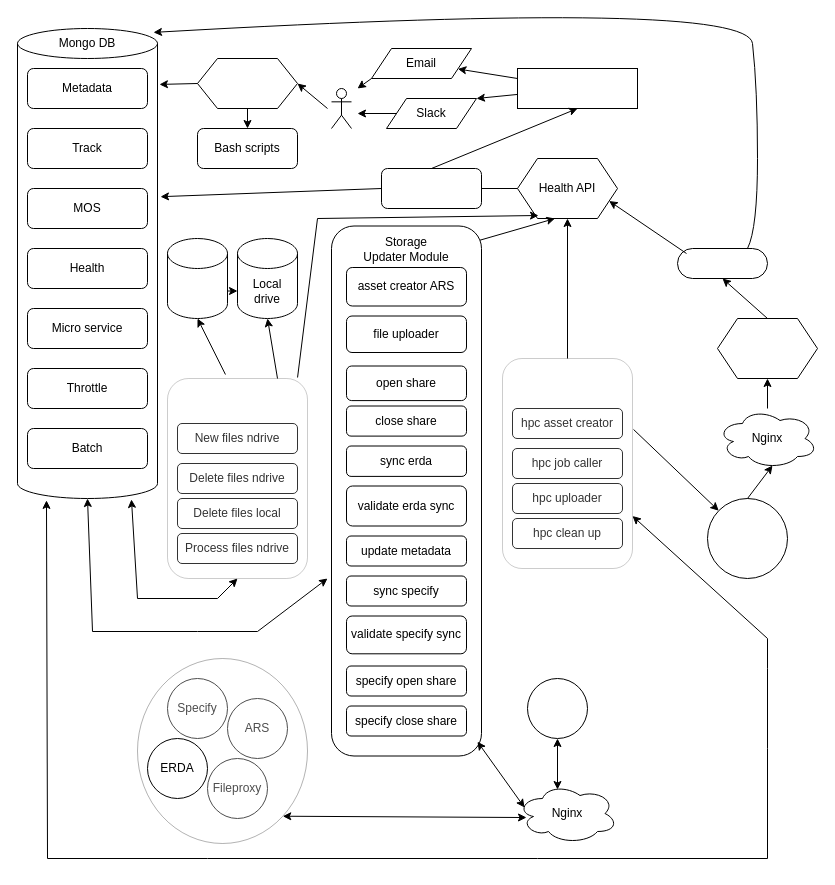
Some shapes in this 835 by 885 pixel diagram are drawn without their labels. The shapes that lost their labels are listed below. From the top down, each one's box as (x1, y1, x2, y2) in pixels, then its label:
(196, 58, 298, 108): Dashboard API
(516, 68, 638, 108): Informations Module
(330, 88, 352, 128): User
(380, 168, 482, 208): Health Service
(166, 238, 228, 318): Ndrive
(676, 248, 768, 278): HPC Service
(716, 318, 818, 378): HPC API
(166, 378, 308, 578): Asset File Handler and Ndrive Modules
(502, 358, 632, 568): HpcSsh Module
(706, 498, 788, 578): HPC Slurm
(526, 678, 588, 738): Keycloak
